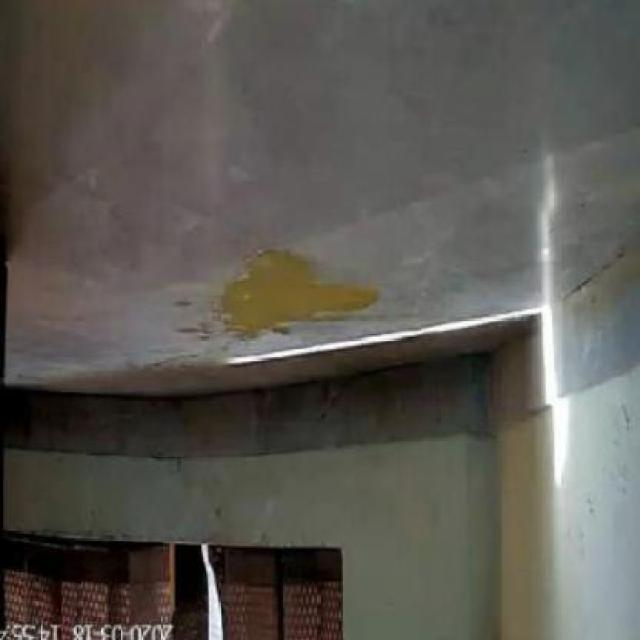spillage: (218, 249, 383, 334)
